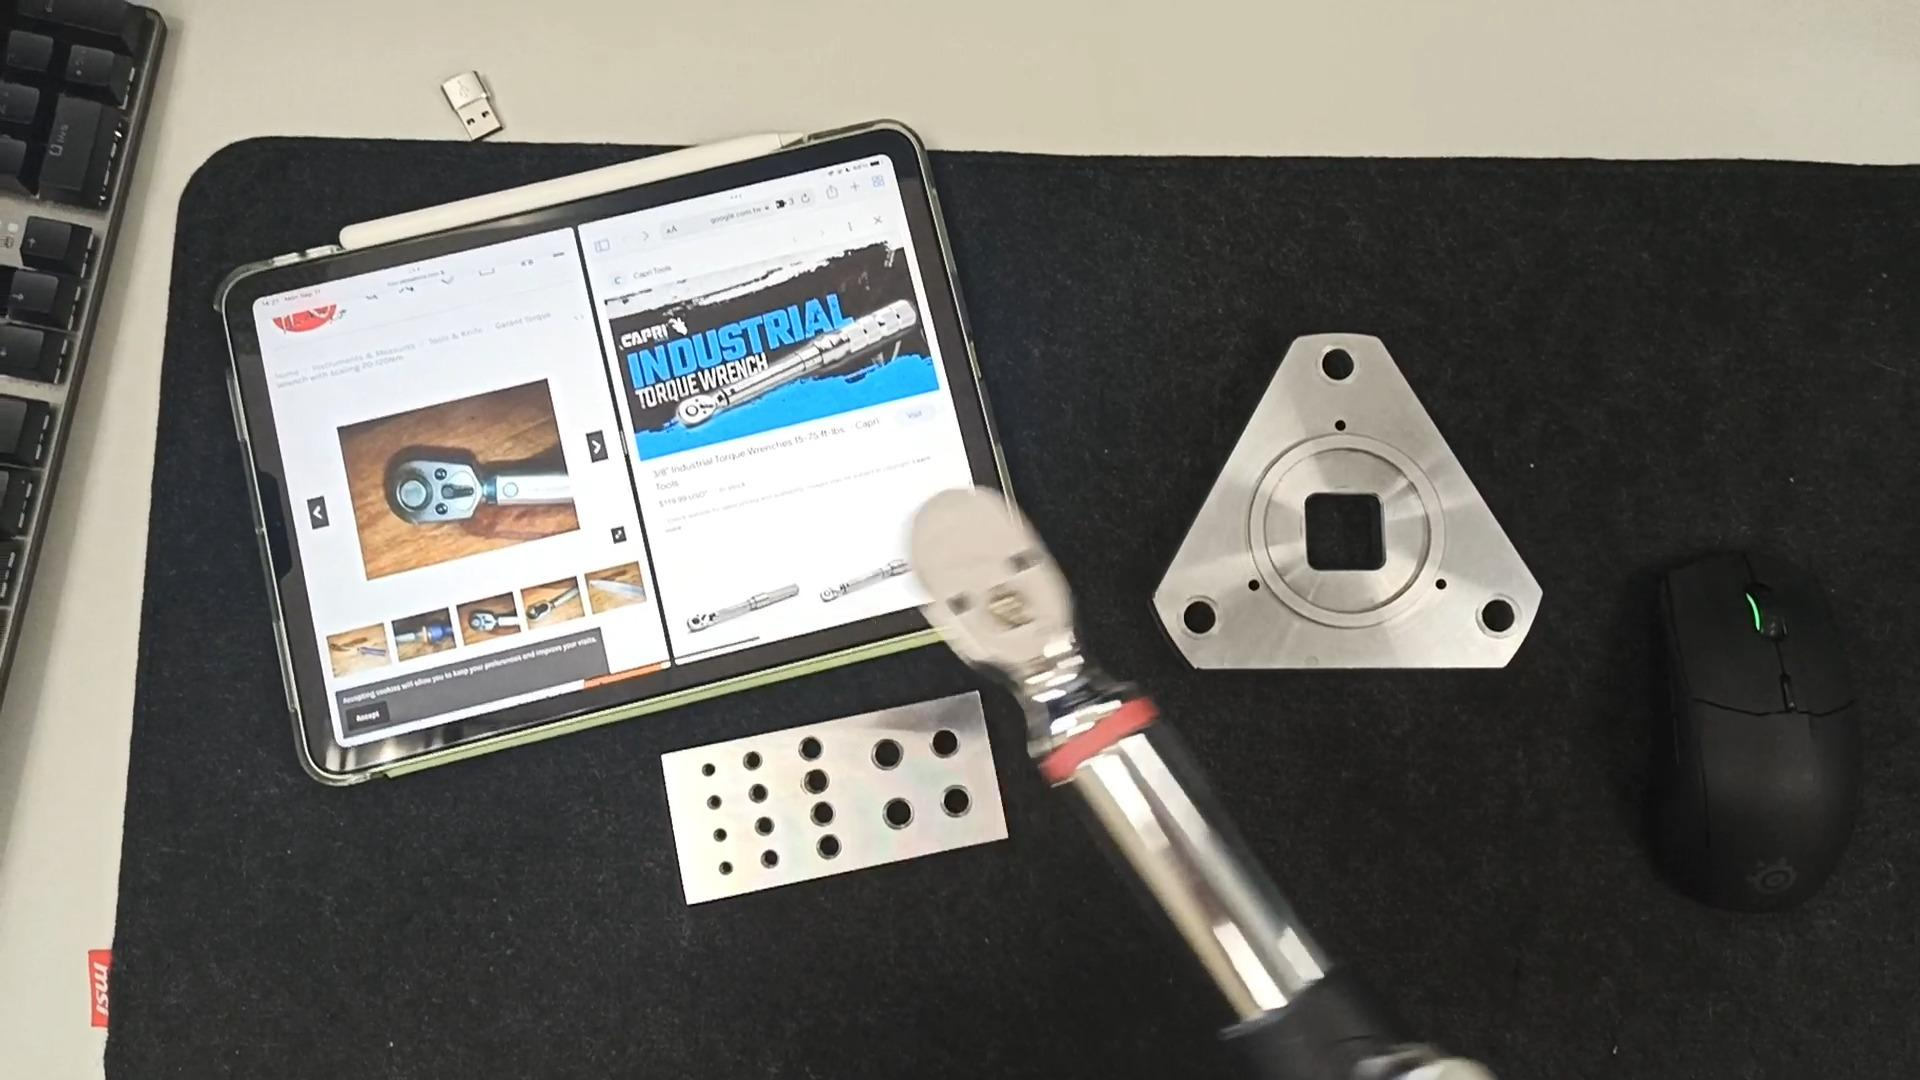Tool: (382, 450, 485, 529), (673, 396, 717, 429)
hole: (1461, 595, 1528, 646), (1162, 597, 1228, 645), (1302, 348, 1365, 393), (924, 783, 986, 824), (853, 737, 914, 775), (866, 795, 926, 833), (916, 729, 975, 765), (793, 765, 845, 795), (789, 735, 839, 765), (808, 836, 857, 865), (803, 800, 851, 829), (744, 815, 785, 839), (738, 783, 778, 807), (733, 748, 773, 771), (756, 851, 796, 873), (692, 758, 729, 778), (699, 794, 735, 814), (704, 824, 738, 844), (709, 860, 742, 880)
